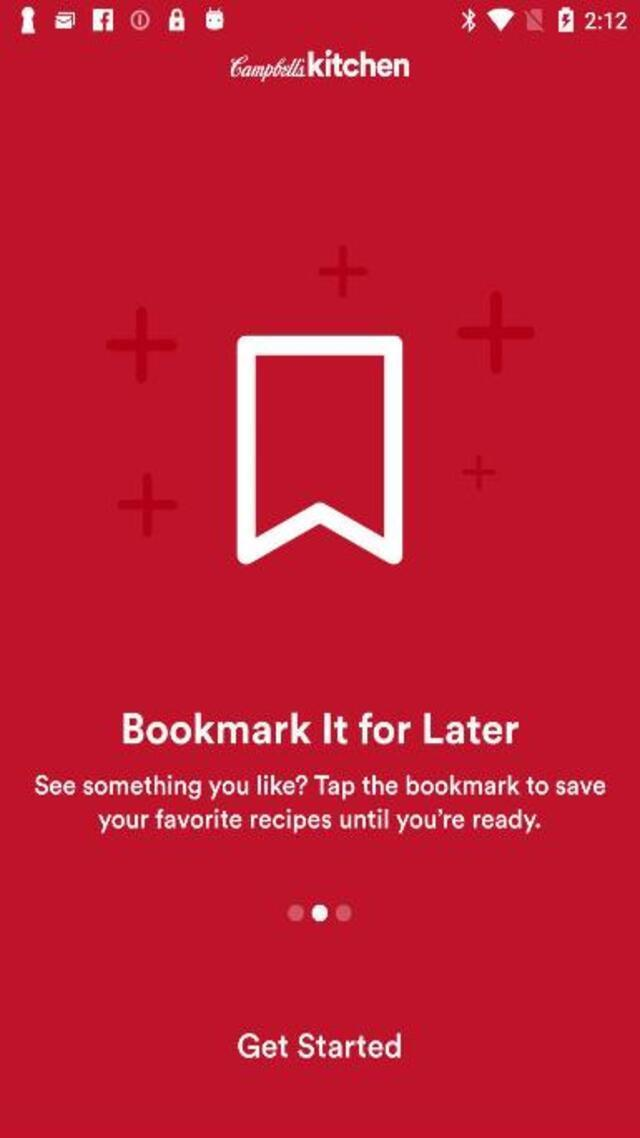Image: (107, 243, 536, 564), (228, 50, 410, 82)
Text: (33, 771, 609, 803), (90, 807, 542, 838), (122, 711, 520, 744), (238, 1032, 400, 1059)
